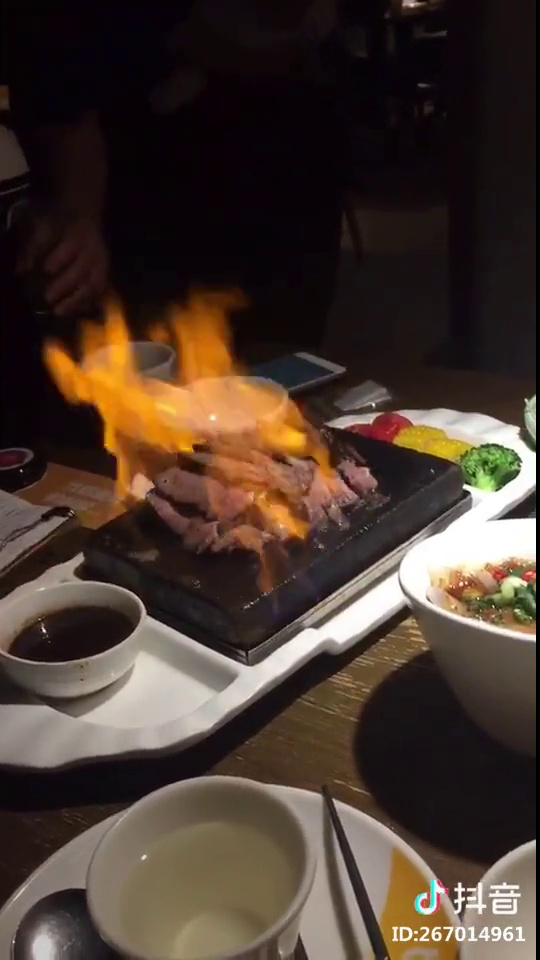fire: (50, 287, 178, 466)
